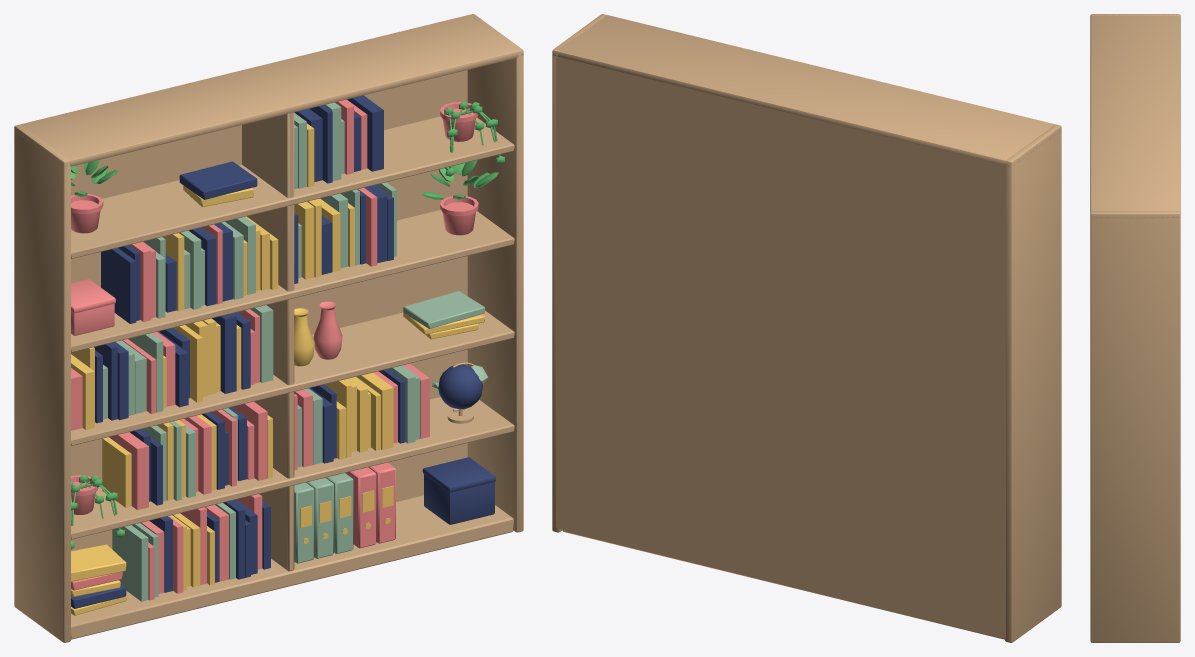
The model's file is bookshelf_b.glb.
The picture shows the model from 3 angles, left to right: view 1: azimuth 30°, elevation 25°; view 2: azimuth 150°, elevation 25°; view 3: azimuth 270°, elevation 25°; orthographic projection. The views are drawn at different scales.
Visible parts, largest first — view 1: oak, book_b, book_a, book_d, book_c, leaf; view 2: oak; view 3: oak.
Boxes of the visible parts, bbox=[...] form: oak: bbox=[14, 14, 523, 642]; book_b: bbox=[71, 95, 495, 608]; book_a: bbox=[71, 99, 478, 600]; book_d: bbox=[71, 123, 484, 615]; book_c: bbox=[103, 102, 488, 601]; leaf: bbox=[71, 101, 504, 549]; oak: bbox=[552, 14, 1061, 642]; oak: bbox=[1090, 14, 1180, 642].
Bounding box in the file's own units: 2 × 2 × 0.38.
